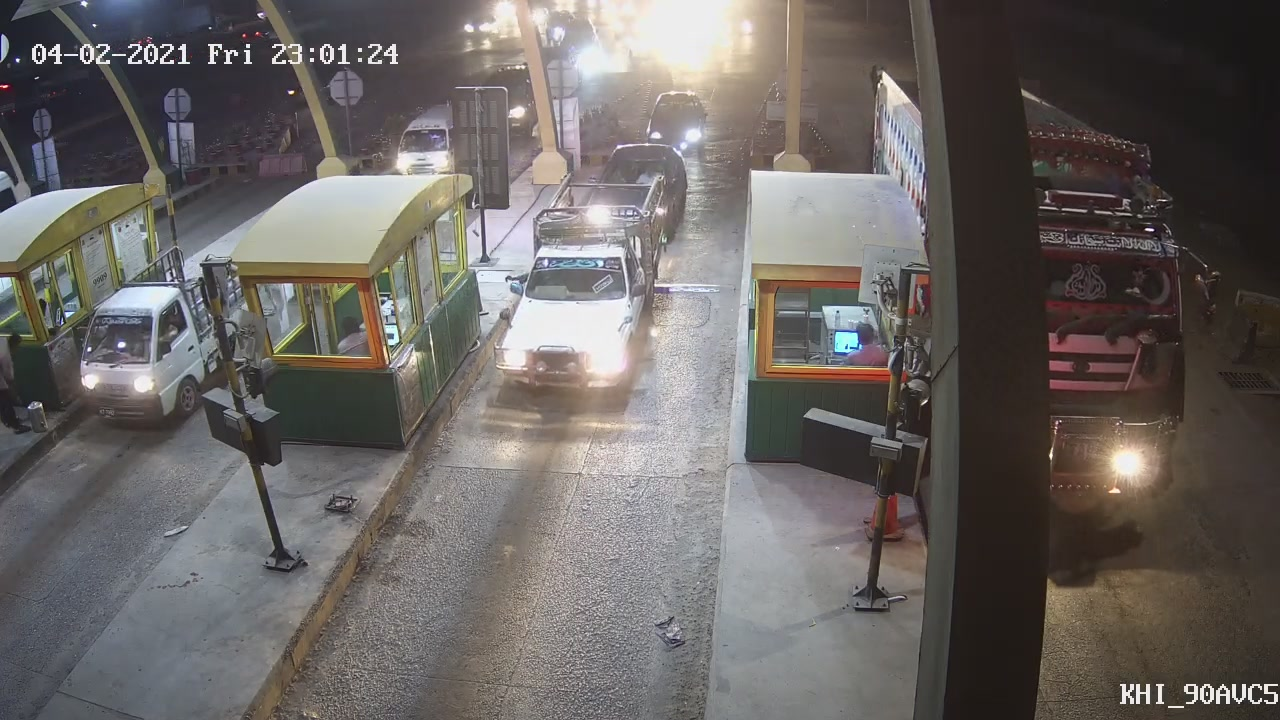F2: (489, 216, 660, 399)
